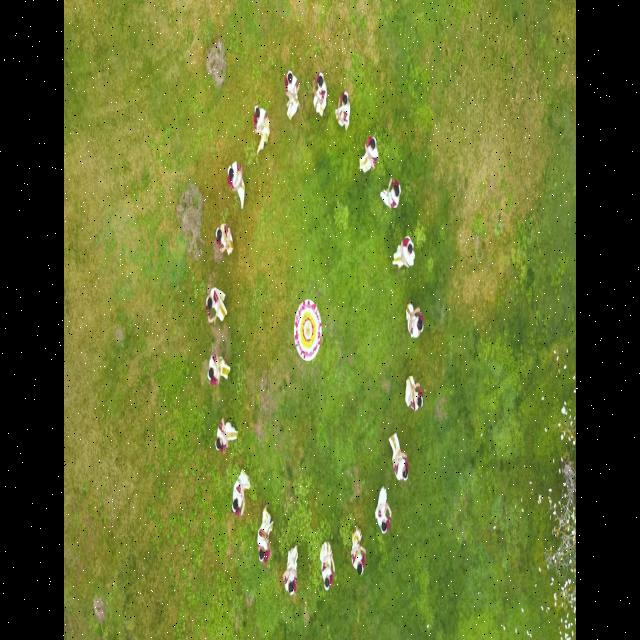humans: (387, 427, 411, 491), (230, 461, 253, 524), (225, 152, 249, 206), (205, 346, 232, 392), (282, 64, 303, 123), (257, 500, 274, 570), (333, 82, 353, 139), (252, 100, 273, 154), (403, 291, 427, 338), (207, 279, 230, 328), (390, 232, 418, 272), (213, 414, 240, 455), (350, 520, 368, 581), (382, 167, 402, 220), (402, 372, 426, 416), (281, 540, 299, 598), (215, 213, 235, 264), (320, 536, 336, 598), (359, 129, 377, 182), (375, 486, 393, 537), (312, 68, 328, 121)
